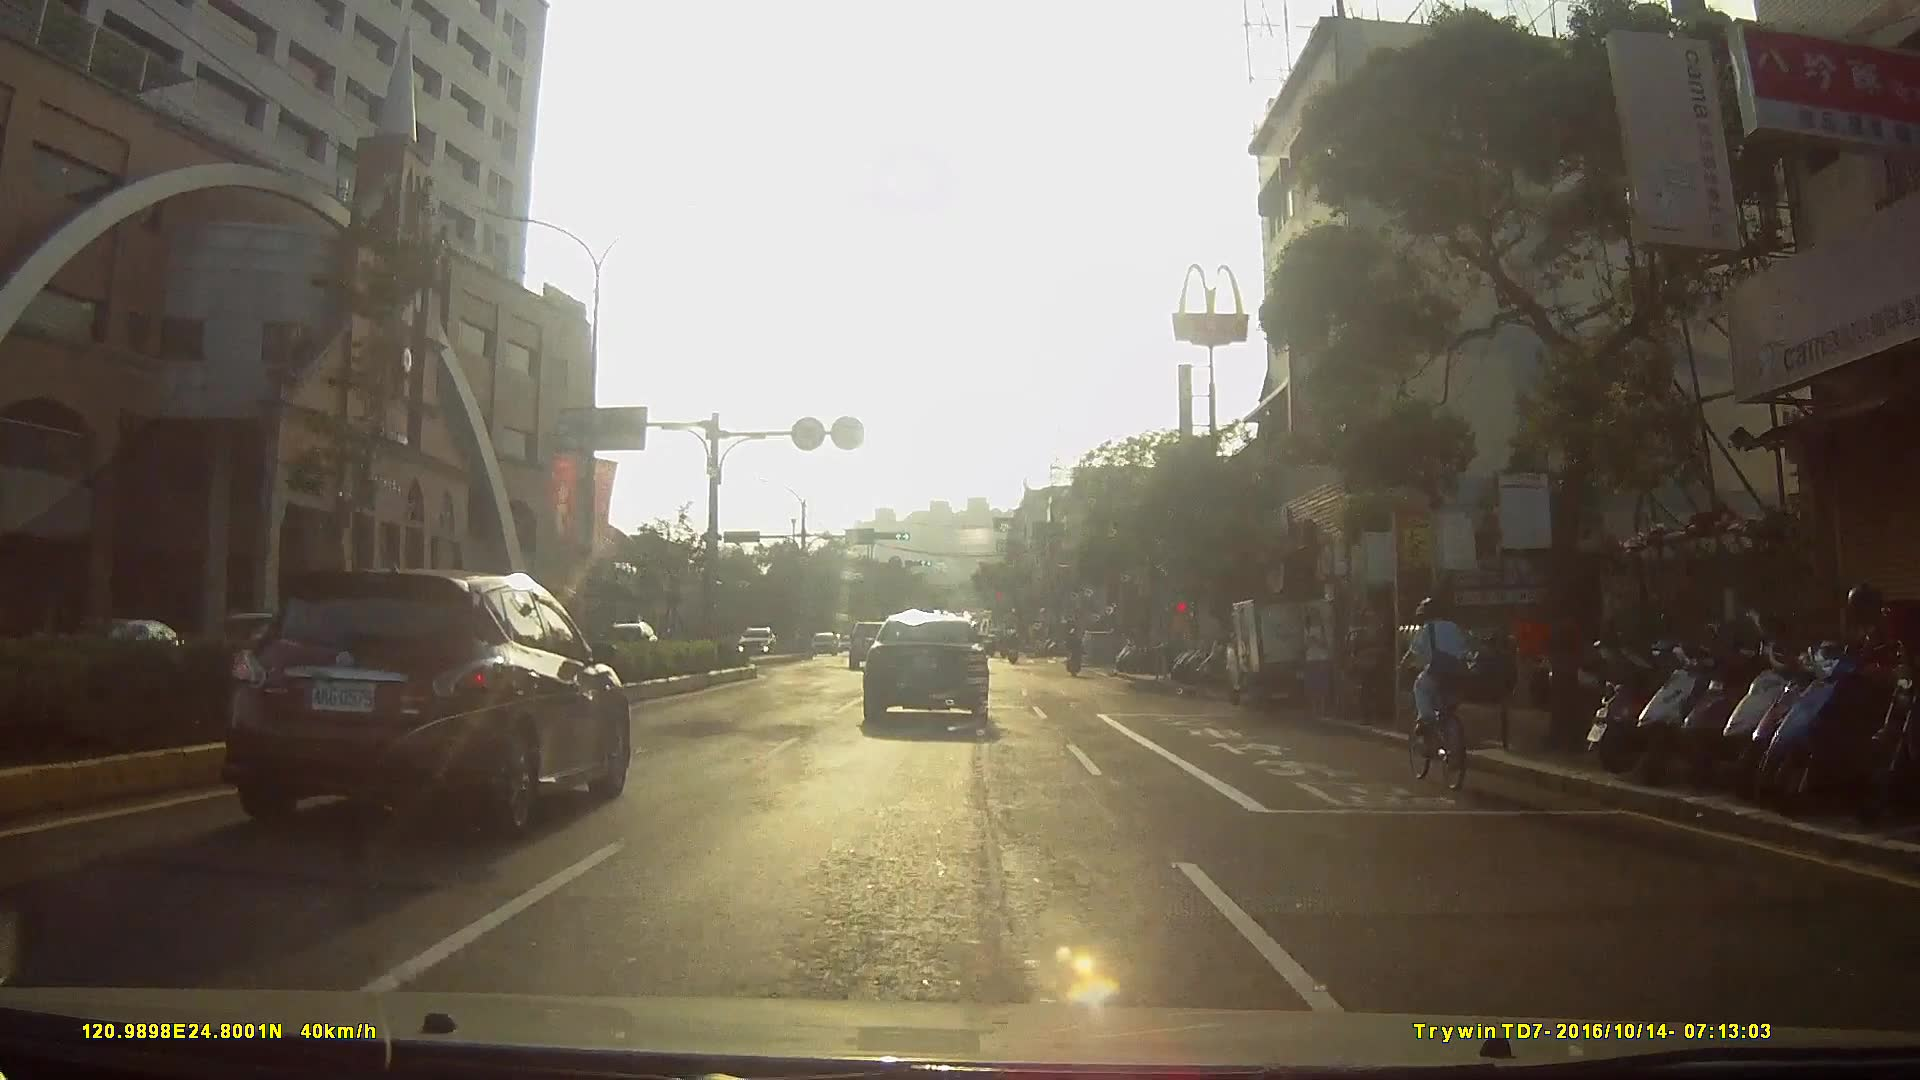pedestrian: (1406, 607, 1457, 738), (1298, 603, 1335, 720)
rider: (1389, 600, 1477, 798), (1065, 626, 1090, 683)
vehicle: (207, 563, 643, 835), (861, 610, 1007, 737), (1233, 592, 1367, 715), (845, 619, 904, 674), (732, 625, 780, 660), (804, 629, 834, 659)
